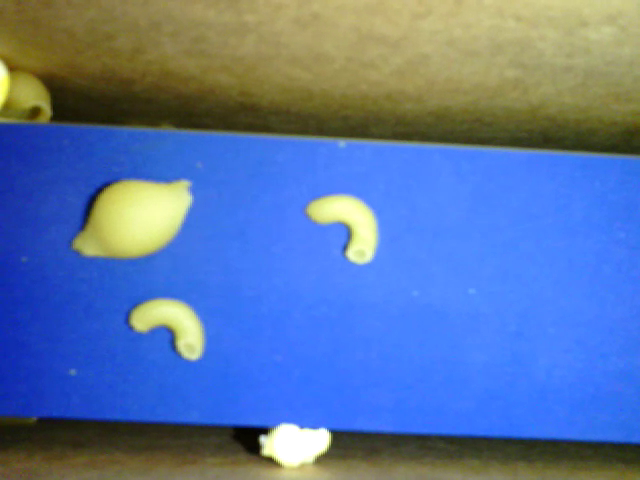elbow: (303, 193, 379, 265), (128, 297, 206, 362)
shell: (70, 176, 197, 258), (1, 67, 55, 127)
